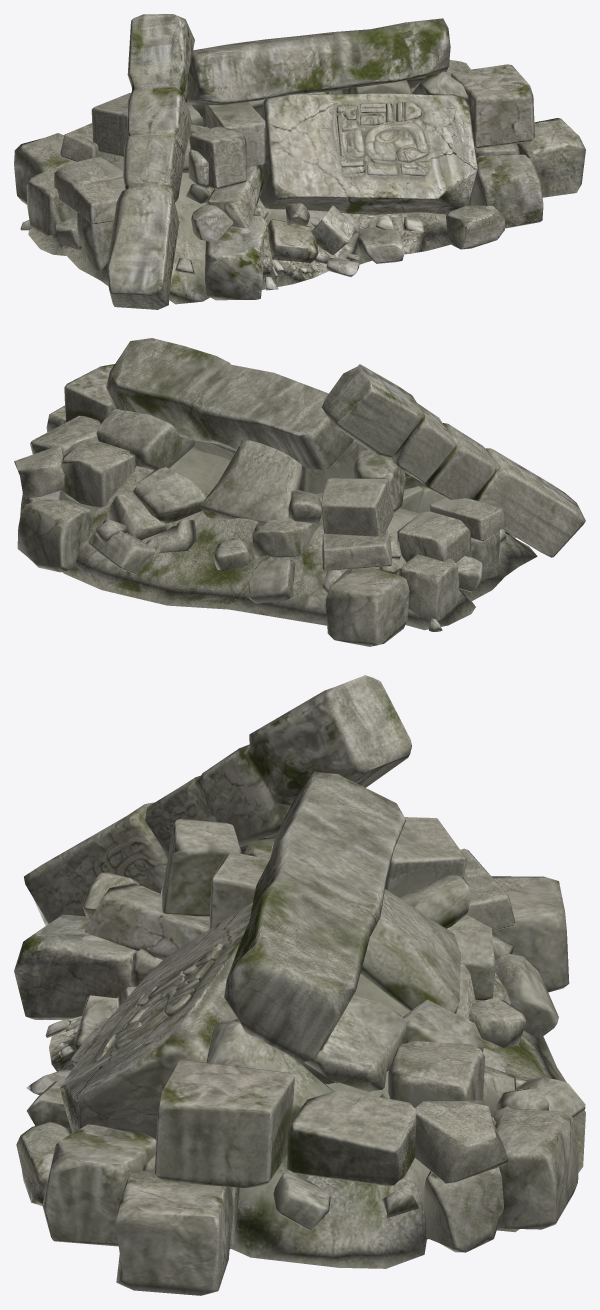
Rendered from ruin_rubble.glb.
The picture shows the model from 3 angles, top to bottom: view 1: azimuth 30°, elevation 25°; view 2: azimuth 150°, elevation 25°; view 3: azimuth 270°, elevation 25°; orthographic projection. The views are drawn at different scales.
Size of the model in its own units: 0.9575 by 0.395 by 0.6006.
Materials: 1 (1 with a texture image).
